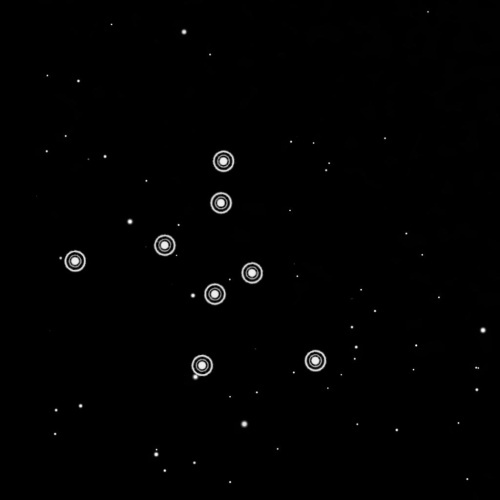hercules: (60, 144, 331, 383)
